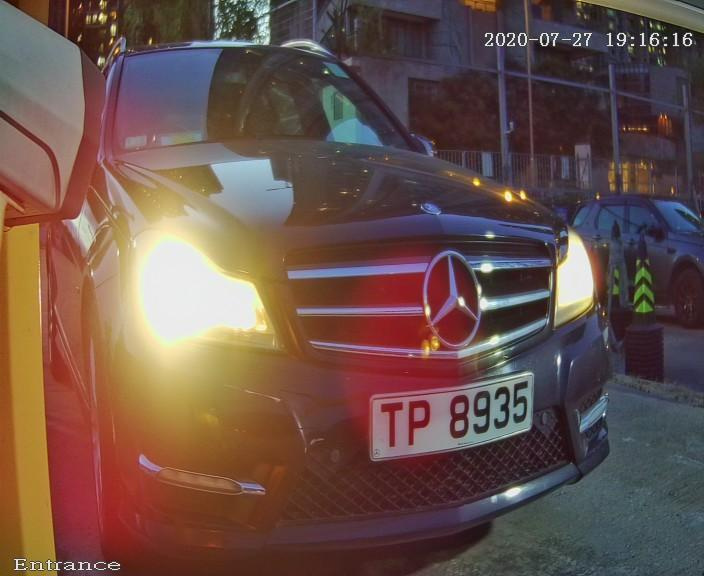privatecar: (20, 17, 619, 548)
